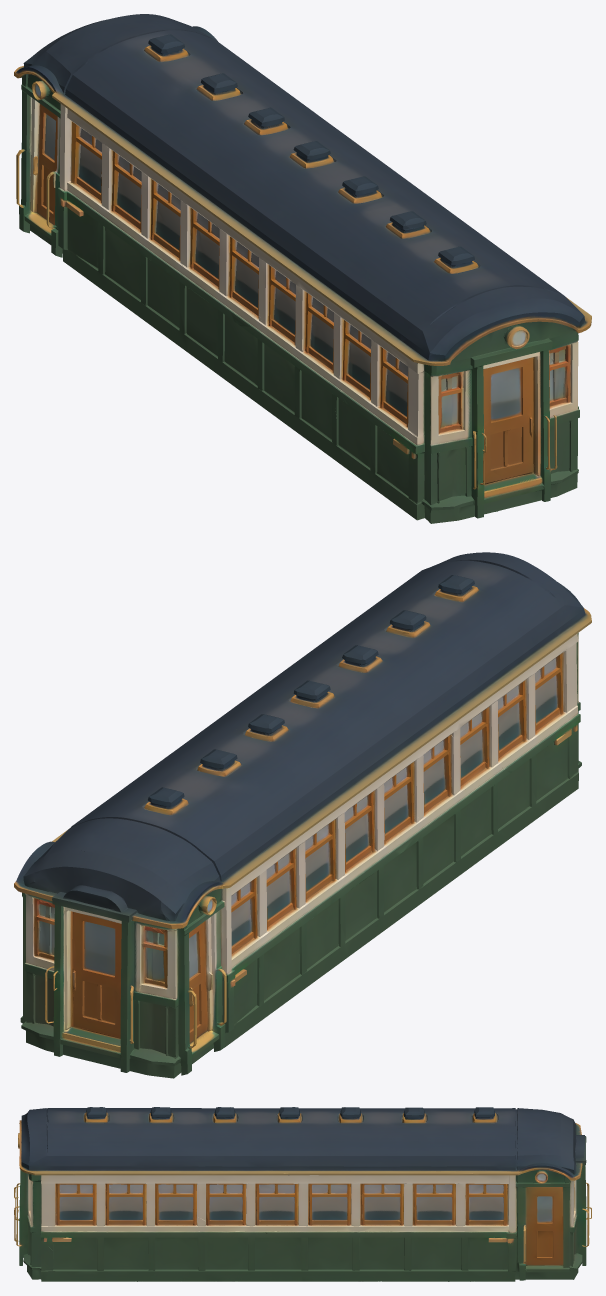
Rendered from source.glb.
3 renders of one model, top to bottom at view 1: azimuth 30°, elevation 25°; view 2: azimuth 150°, elevation 25°; view 3: azimuth 270°, elevation 25°, orthographic. The views are drawn at different scales.
Parts seen in each view (by area): view 1: model; view 2: model; view 3: model.
Boxes of the visible parts, bbox=[...] form: model: bbox=[14, 14, 591, 523]; model: bbox=[14, 552, 591, 1078]; model: bbox=[14, 1107, 591, 1281].
Bounding box in the file's own units: 0.456 × 0.5346 × 1.9.
Materials: 1 (1 with a texture image).
